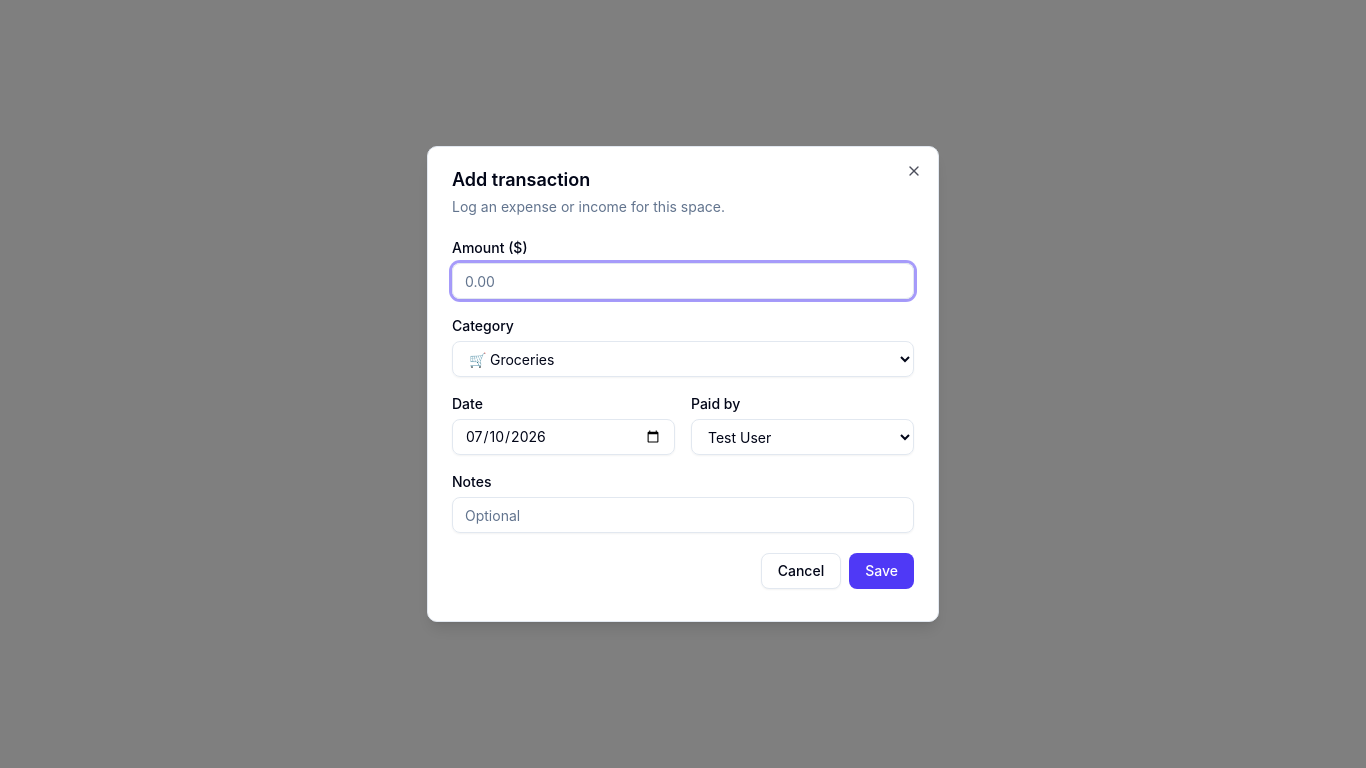
TransactionDialog › rejects an invalid amount
Type "abc" into the field labelled "Amount ($)" at x=683, y=281, box [452, 263, 914, 299]
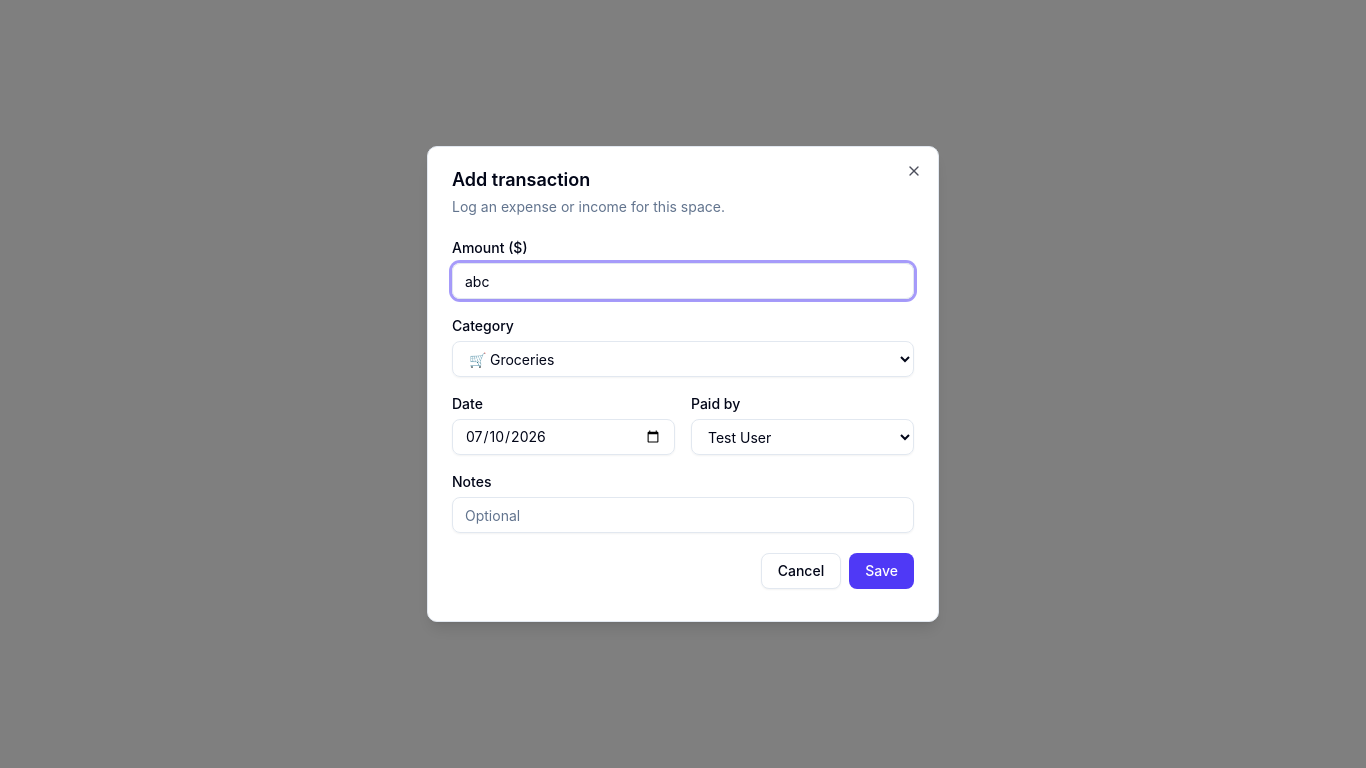
Click the button "Save" at x=882, y=571, box [849, 553, 914, 589]
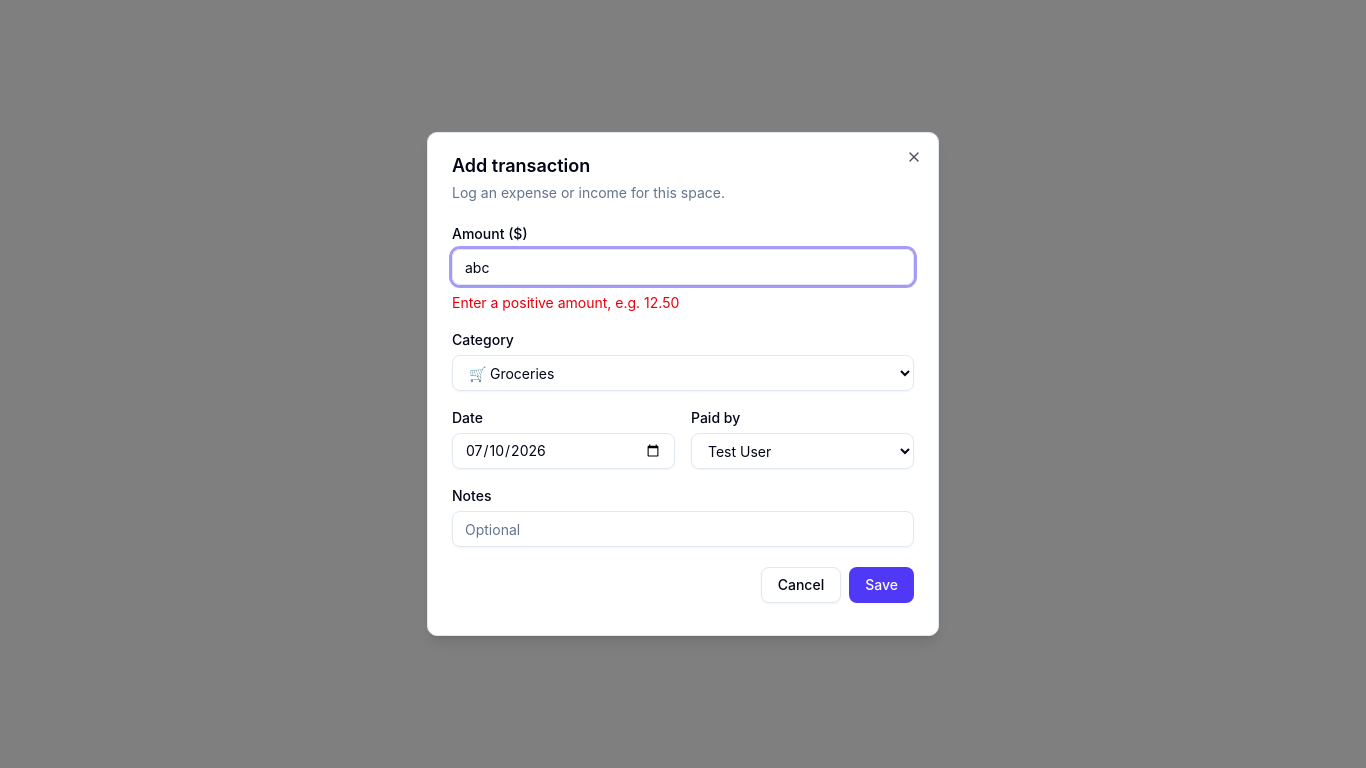
Result: the text "Enter a positive amount, e.g. 12.50" is shown at [452, 294, 679, 311]
